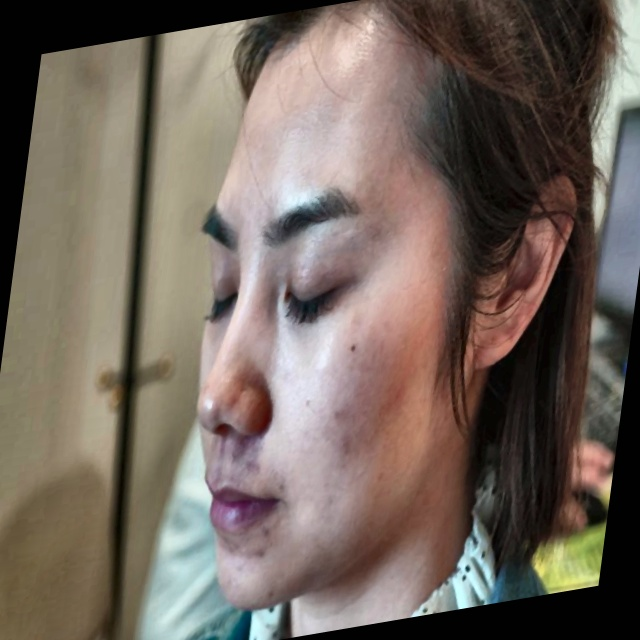comedone: (224, 440, 255, 478), (246, 536, 271, 567)
